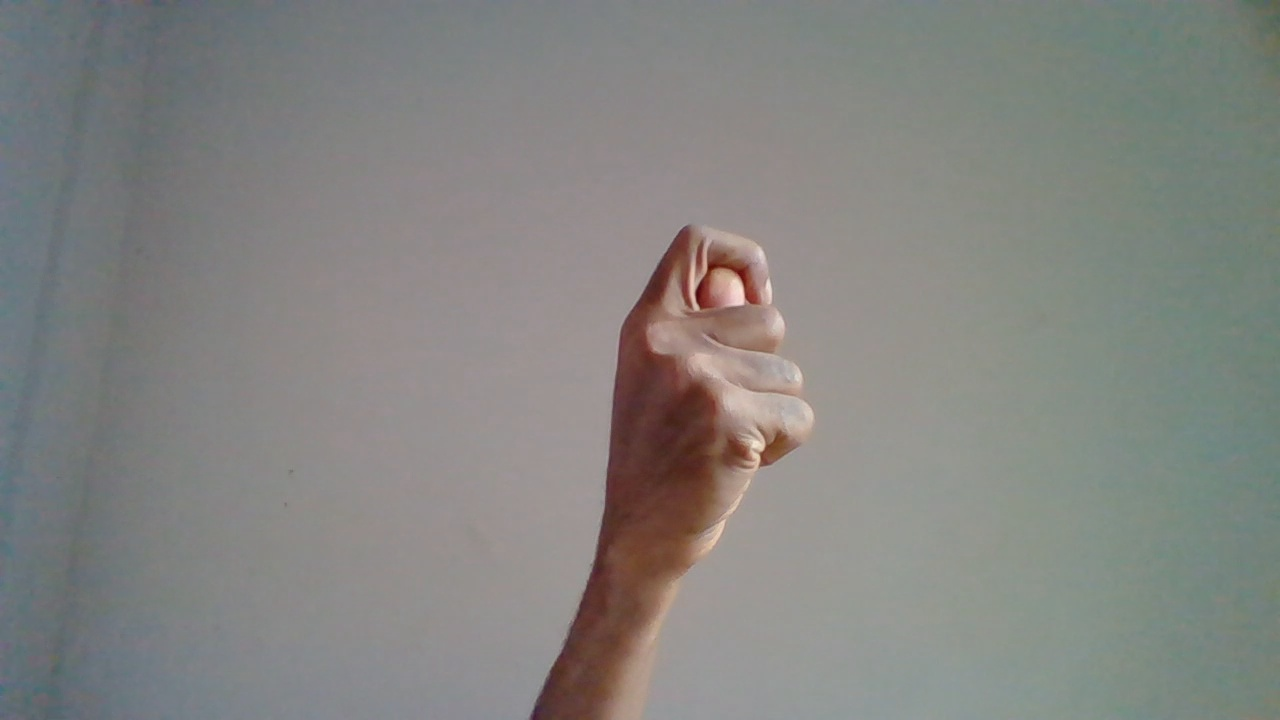che: (603, 218, 808, 672)
